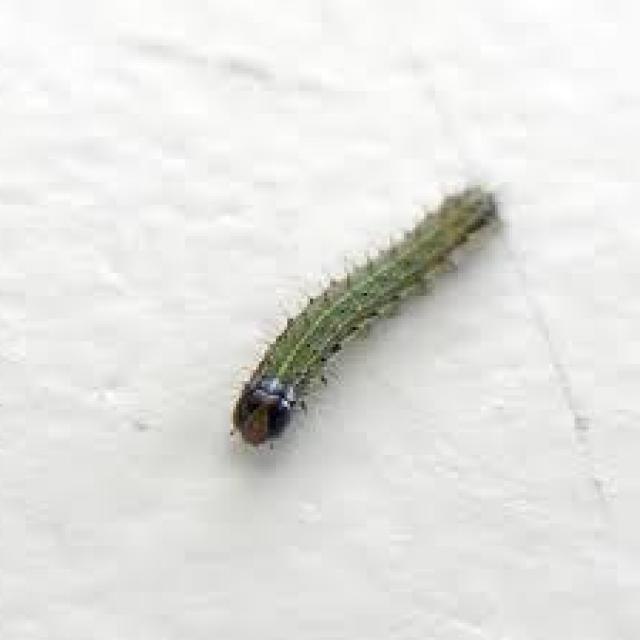armyworm: (217, 185, 507, 460)
